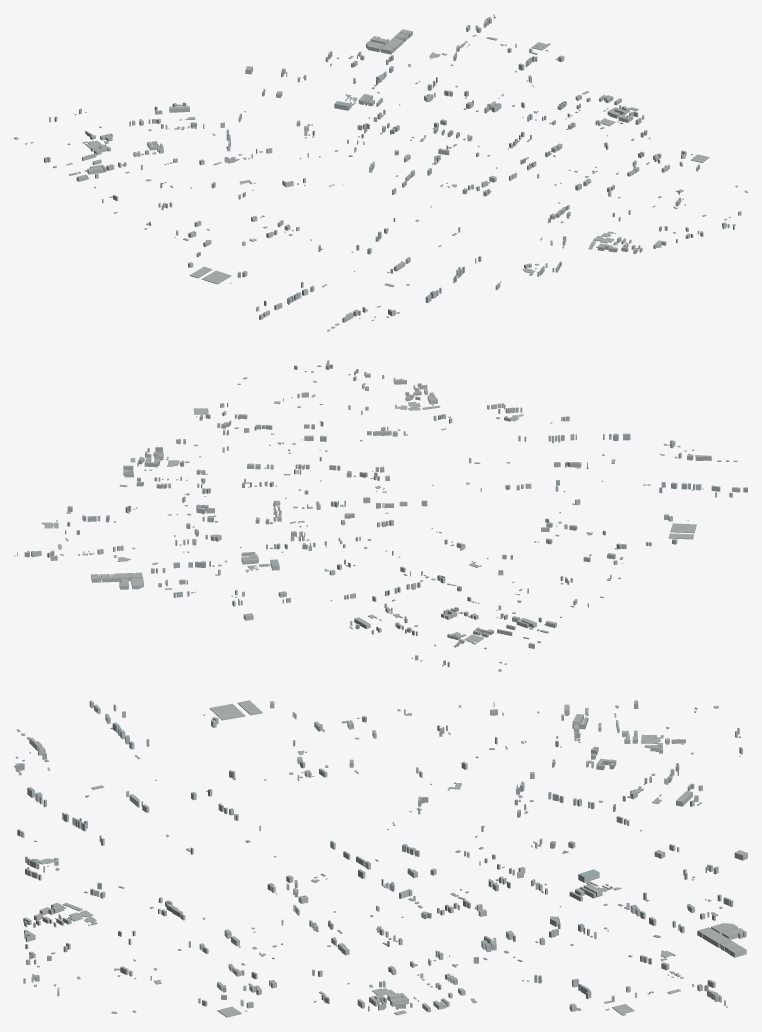
Rendered from far.glb.
3 views of the same model, one above another, from view 1: azimuth 30°, elevation 25°; view 2: azimuth 150°, elevation 25°; view 3: azimuth 270°, elevation 25° (orthographic). The views are drawn at different scales.
Size of the model in its own units: 2165 by 22.9 by 2121.
